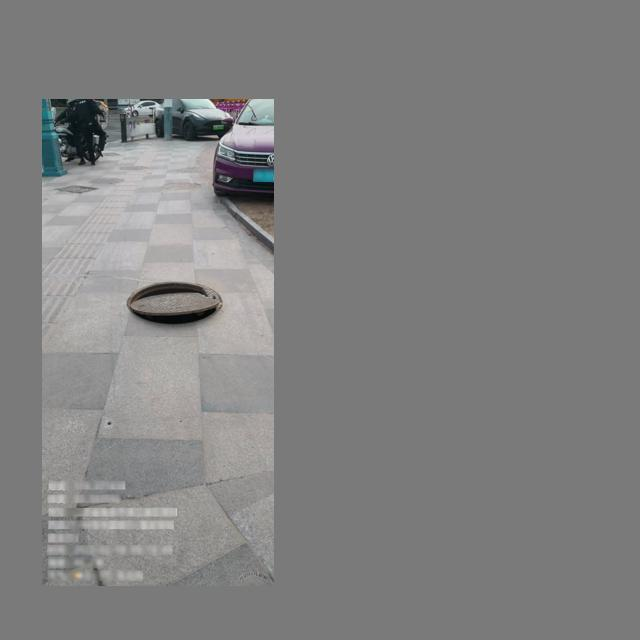uncovered: (127, 282, 223, 327)
